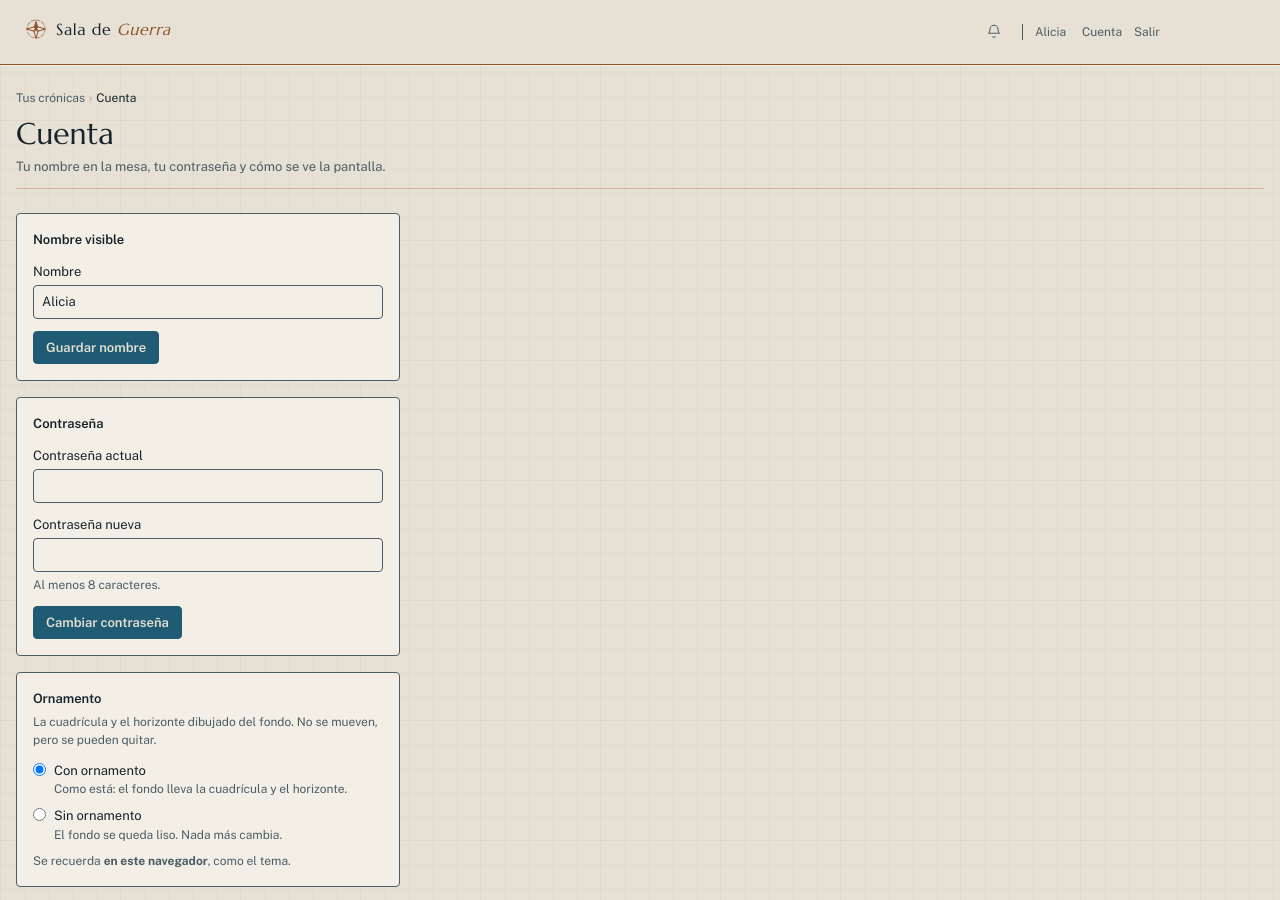
AccountPage › shows the wrong-current-password failure, in Spanish, and does not touch the session
Type "wrong" into the password field labelled "Contraseña actual". click: (208, 486)
box: [33,469,383,502]
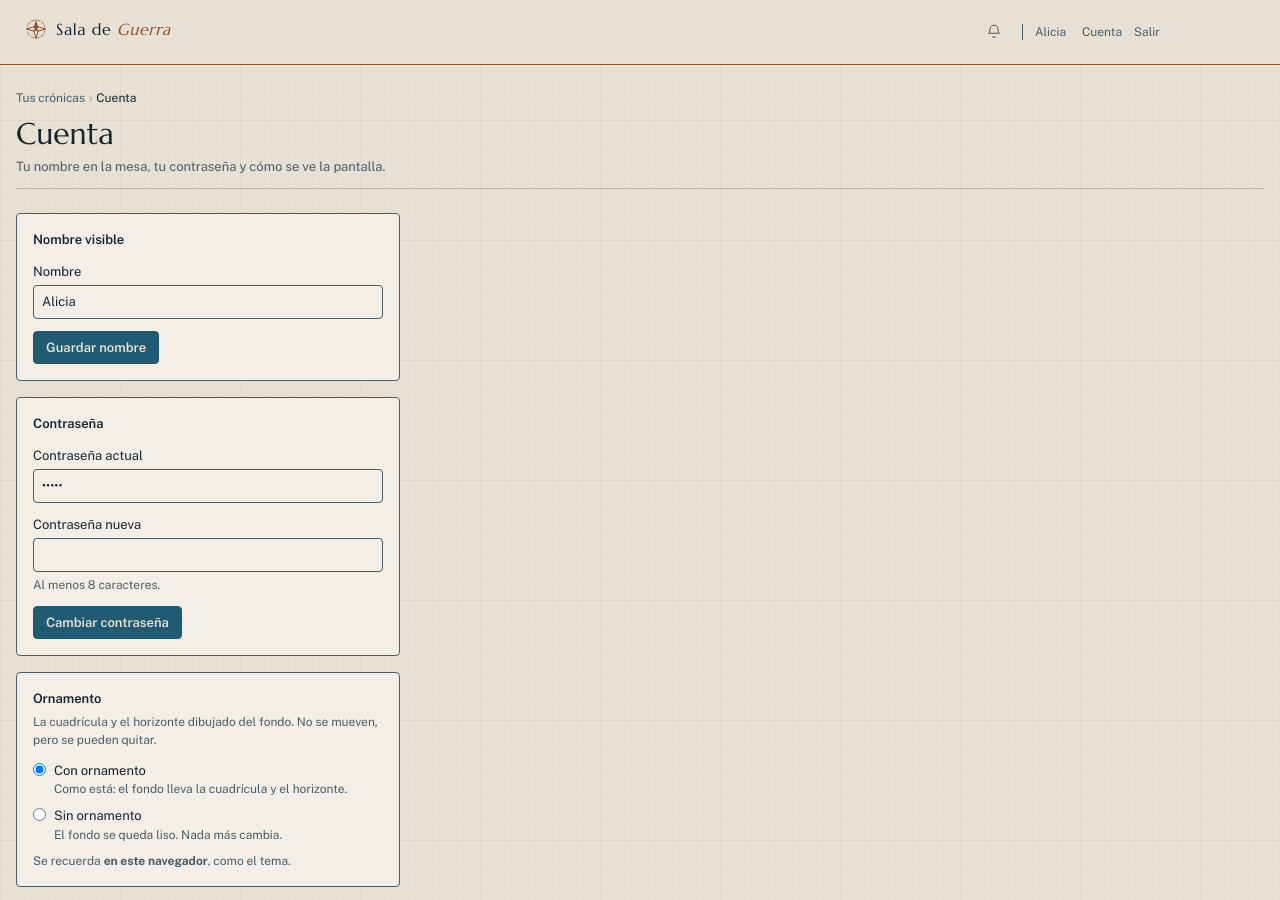
Type "newpassword123" into the password field labelled "Contraseña nueva". click: (208, 555)
box: [33,538,383,572]
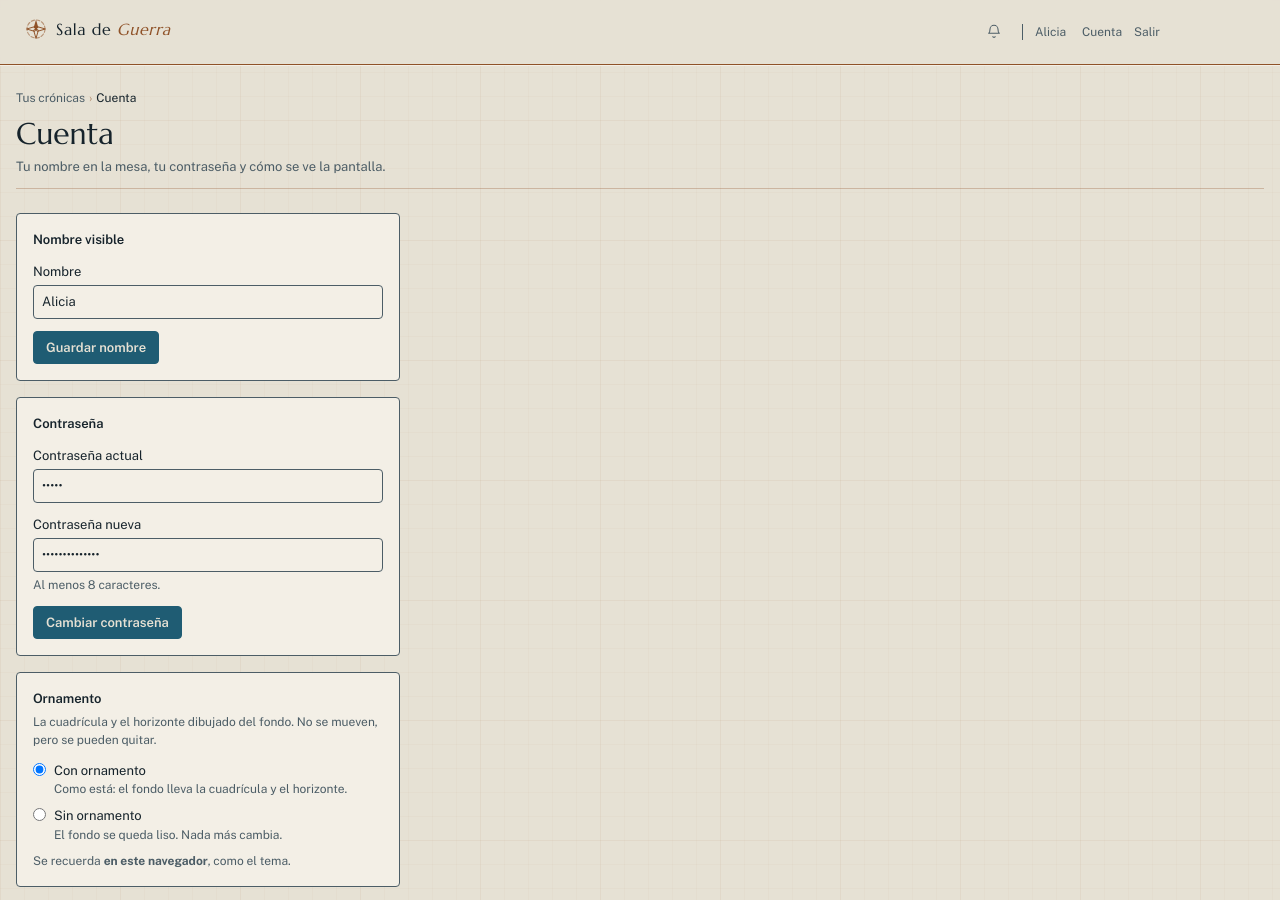
Click the button "Cambiar contraseña". click: (107, 622)
box: [33,606,182,639]
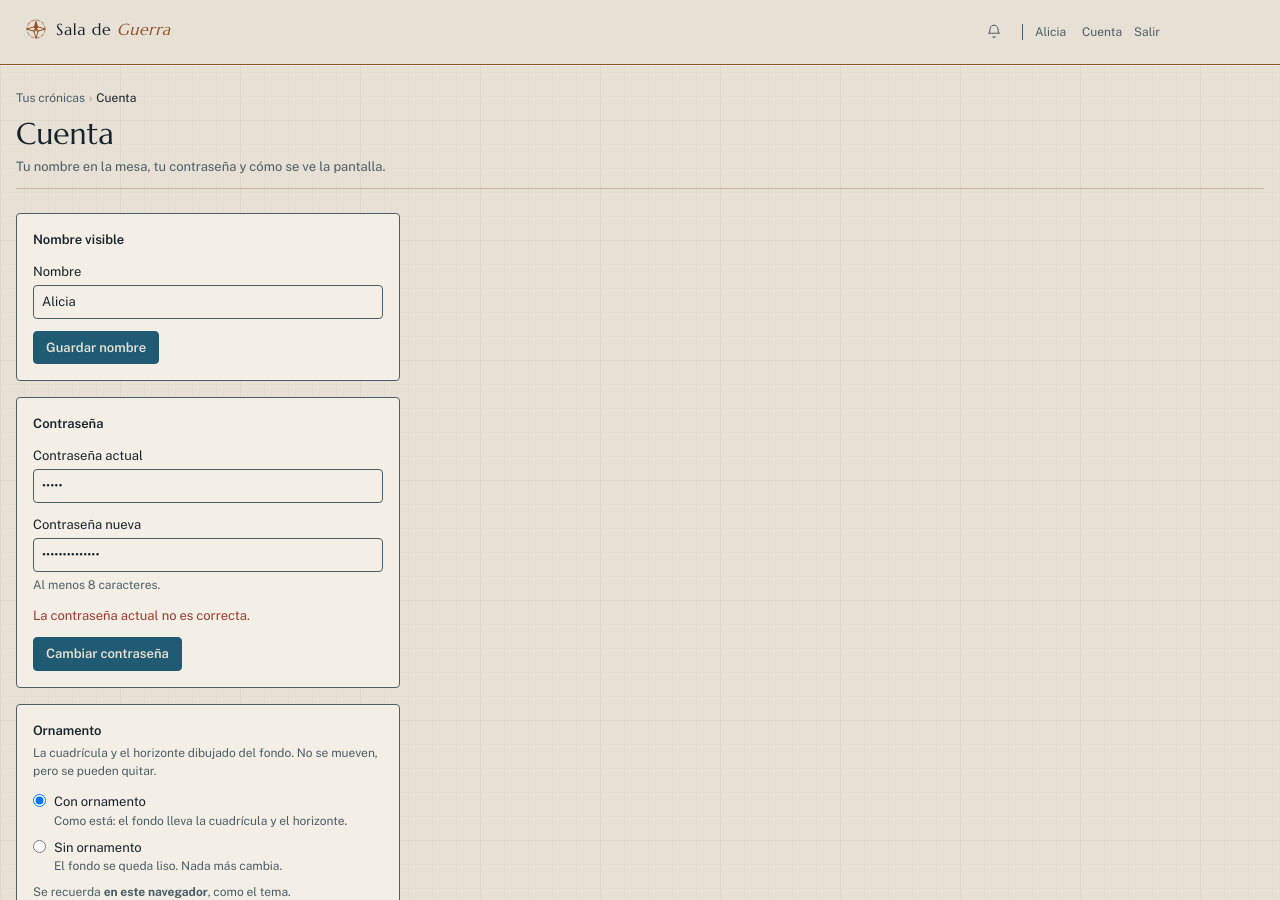
Check: the message reads "La contraseña actual no es correcta.", box [33,608,250,622]
